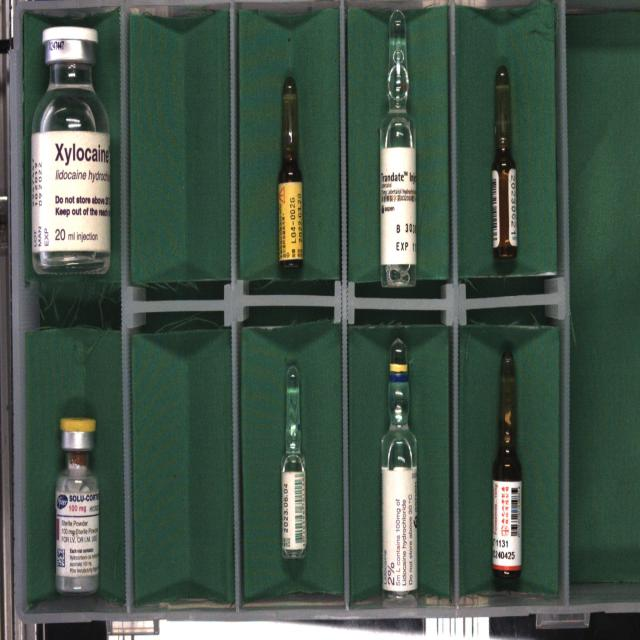Vials: (31, 26, 110, 274), (56, 417, 99, 594)
